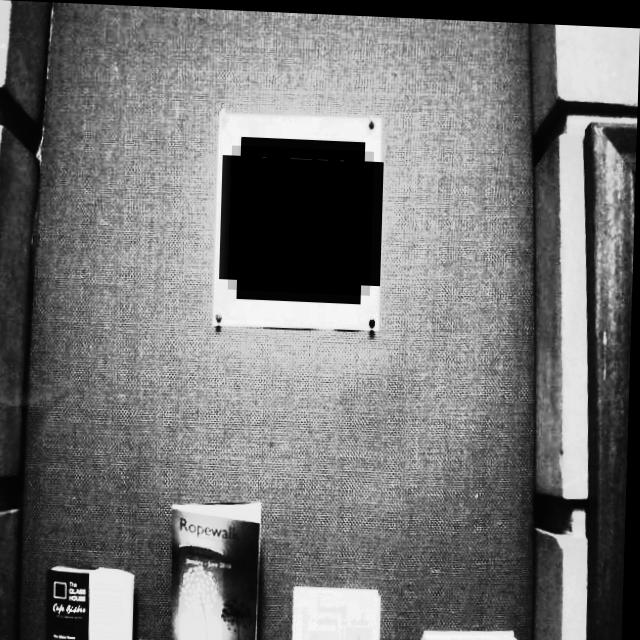qr_code: (230, 143, 375, 292)
